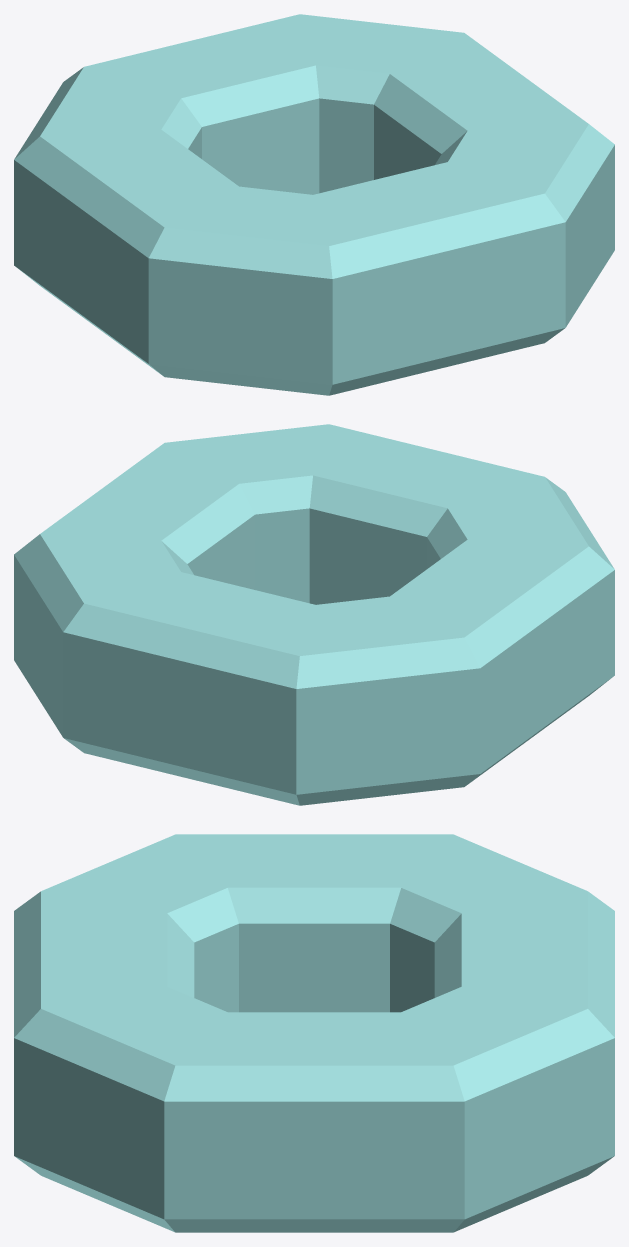
File: doughnut.fbx
3 renders of one model, top to bottom at view 1: azimuth 30°, elevation 25°; view 2: azimuth 150°, elevation 25°; view 3: azimuth 270°, elevation 25°, orthographic. The views are drawn at different scales.
Visible parts, largest first — view 1: doughnut; view 2: doughnut; view 3: doughnut.
Boxes of the visible parts, <box> form: doughnut: <box>14,14,614,395</box>; doughnut: <box>14,424,614,805</box>; doughnut: <box>14,834,614,1232</box>.
Bounding box in the file's own units: 0.4525 × 0.1387 × 0.4525.
